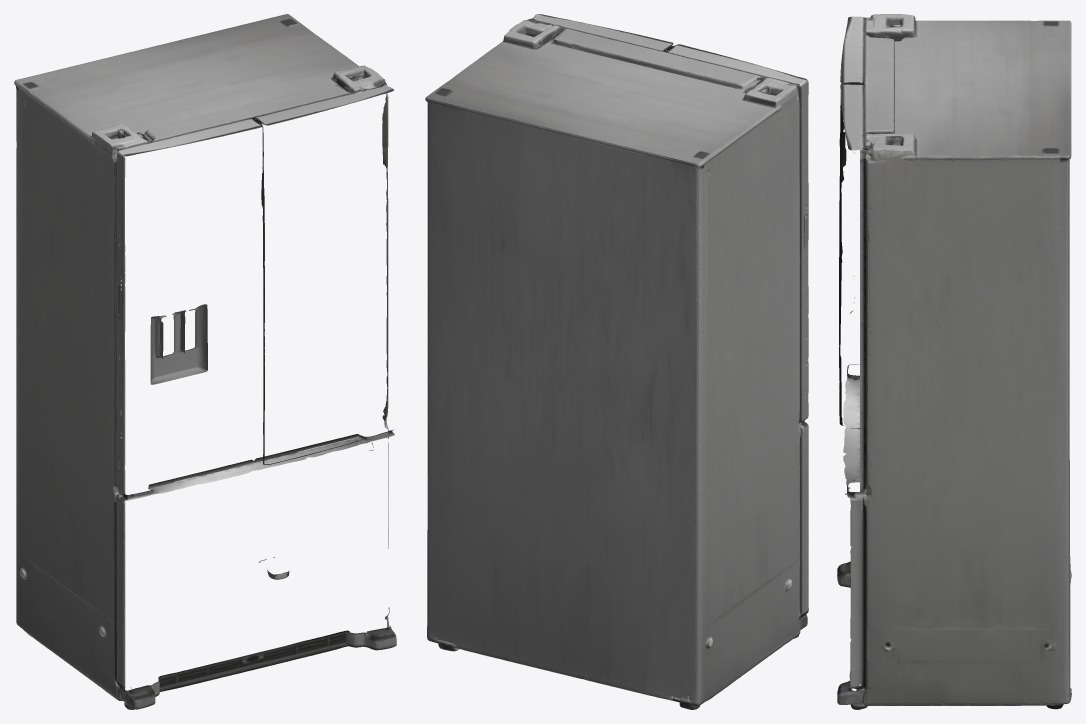
File: body.glb
3 views of the same model, side by side, from view 1: azimuth 30°, elevation 25°; view 2: azimuth 150°, elevation 25°; view 3: azimuth 270°, elevation 25° (orthographic).
Visible parts, largest first — view 1: source_surface_0; view 2: source_surface_0; view 3: source_surface_0.
Part boxes in pixels (left/top/right/bottom): source_surface_0: left=14, top=14, right=396, bottom=709; source_surface_0: left=425, top=14, right=808, bottom=709; source_surface_0: left=837, top=14, right=1071, bottom=709.
Bounding box in the file's own units: 1.75 × 3.38 × 1.27.
1 material, 1 textured.
